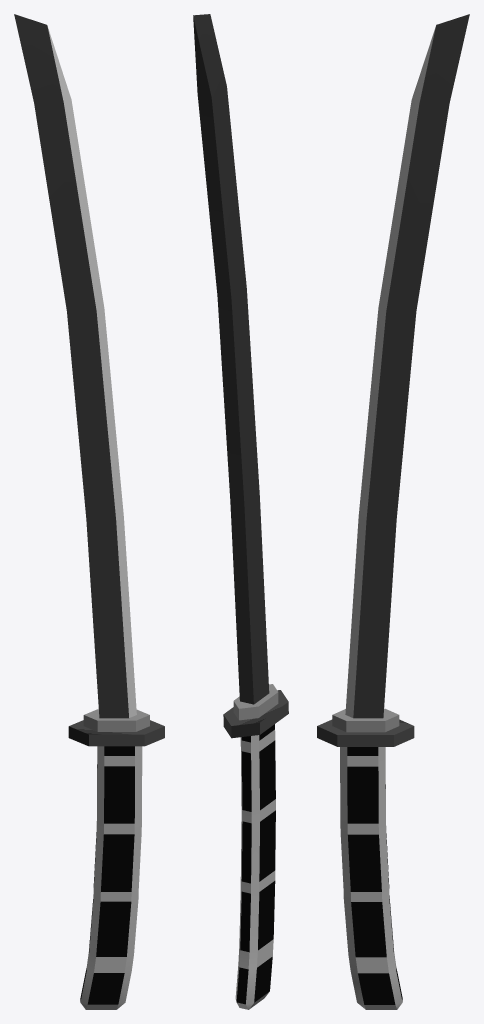
The model's file is SM_Wep_Katana_01.fbx.
3 views of the same model, side by side, from view 1: azimuth 90°, elevation 25°; view 2: azimuth 150°, elevation 25°; view 3: azimuth 270°, elevation 25° (orthographic). The views are drawn at different scales.
Parts seen in each view (by area): view 1: SM_Wep_Katana_01; view 2: SM_Wep_Katana_01; view 3: SM_Wep_Katana_01.
Part boxes in pixels (x1,y1,x2,y2): SM_Wep_Katana_01: [14, 14, 164, 1009]; SM_Wep_Katana_01: [193, 14, 288, 1009]; SM_Wep_Katana_01: [317, 14, 469, 1009].
Bounding box in the file's own units: 5.38 × 19.78 × 143.
